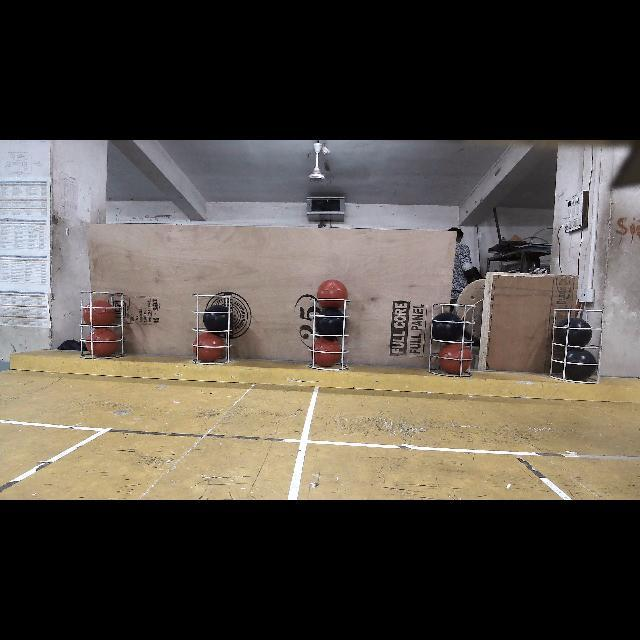P: (561, 348, 597, 382), (316, 307, 348, 338), (431, 312, 464, 342), (558, 318, 590, 348), (203, 304, 233, 334)
R: (86, 327, 122, 357), (438, 344, 472, 374), (311, 337, 343, 368), (192, 332, 225, 362), (318, 280, 348, 309), (83, 301, 115, 327)
S: (550, 309, 602, 382), (429, 304, 476, 378), (81, 292, 125, 358), (311, 296, 349, 370), (194, 294, 230, 362)
